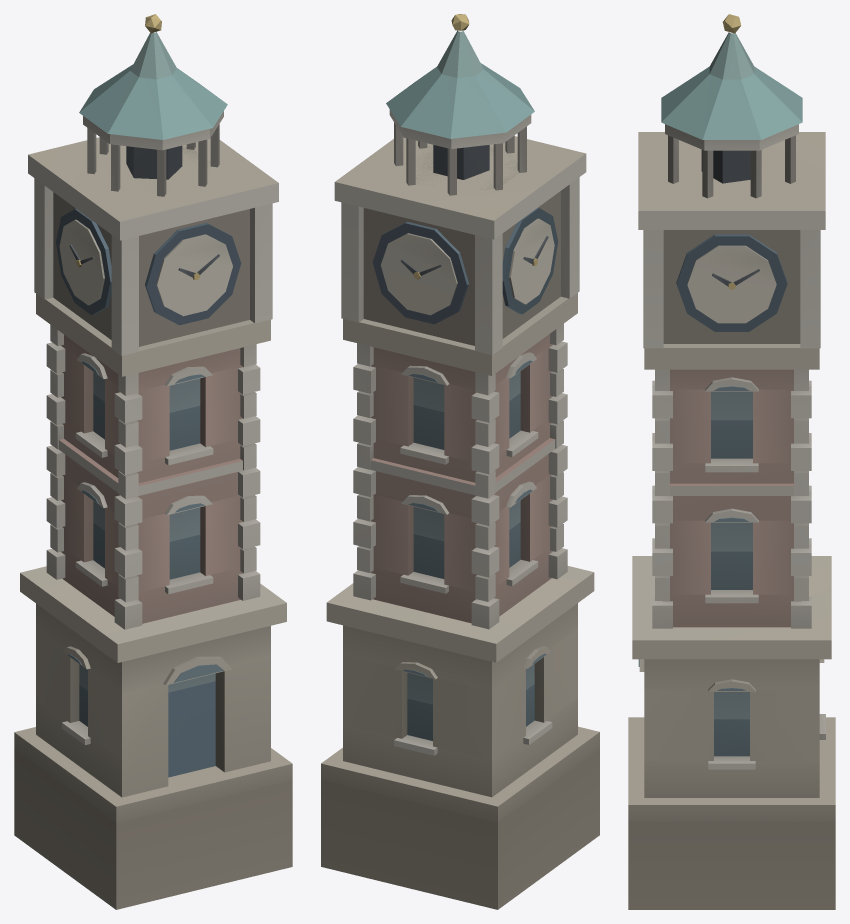
File: clock.lod1.glb
3 views of the same model, side by side, from view 1: azimuth 30°, elevation 25°; view 2: azimuth 150°, elevation 25°; view 3: azimuth 270°, elevation 25° (orthographic).
Size of the model in its own units: 3.44 by 15.54 by 3.44.
